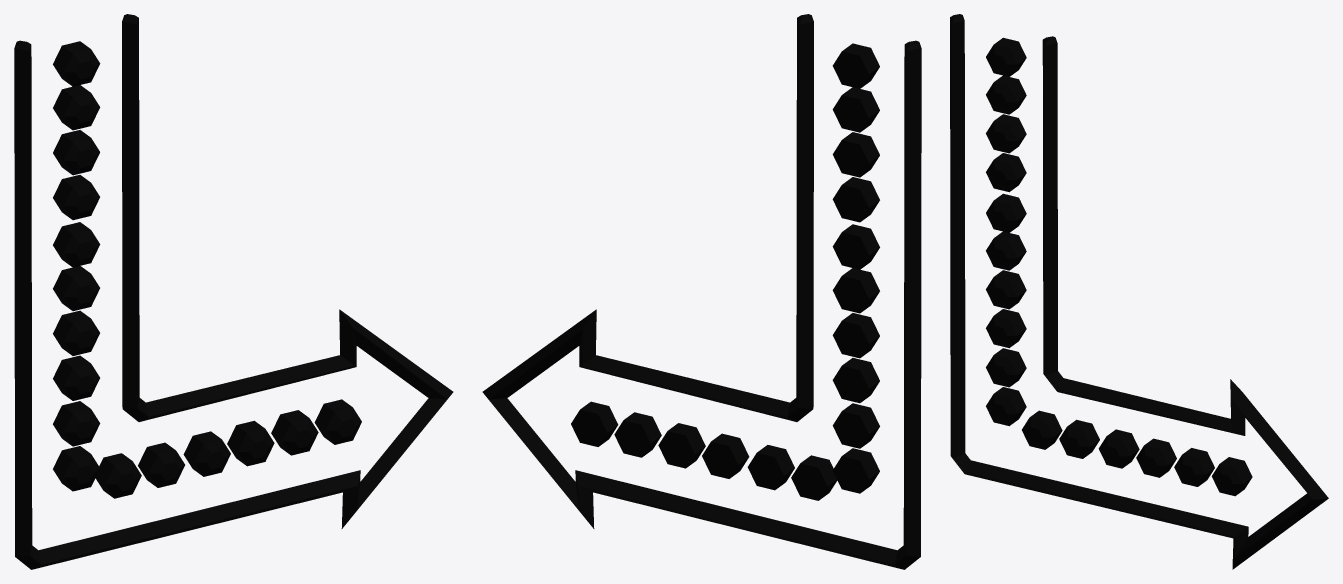
The model's file is SM_Prop_Casino_Neon_01.fbx.
The picture shows the model from 3 angles, left to right: view 1: azimuth 30°, elevation 25°; view 2: azimuth 150°, elevation 25°; view 3: azimuth 330°, elevation 25°; orthographic projection. The views are drawn at different scales.
Parts seen in each view (by area): view 1: SM_Prop_Casino_Neon_01; view 2: SM_Prop_Casino_Neon_01; view 3: SM_Prop_Casino_Neon_01.
Boxes of the visible parts, x1,y1,x2,y2 form: SM_Prop_Casino_Neon_01: [14, 14, 453, 569]; SM_Prop_Casino_Neon_01: [482, 14, 921, 569]; SM_Prop_Casino_Neon_01: [950, 14, 1328, 569].
Bounding box in the file's own units: 106 × 130 × 5.84.
